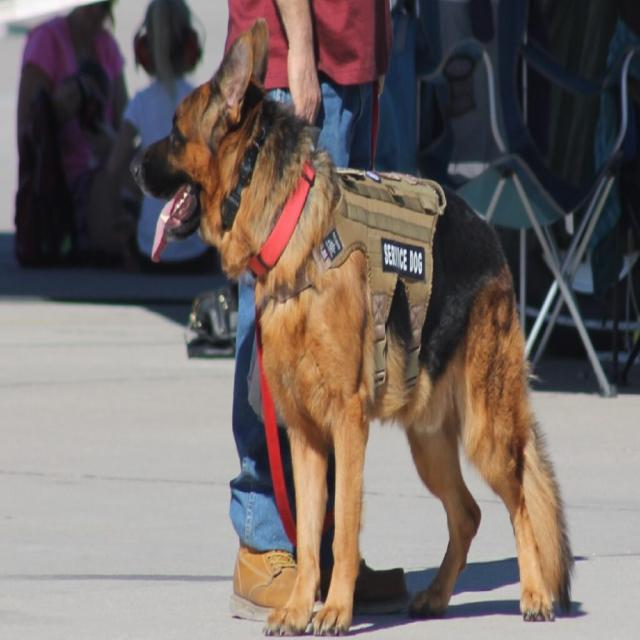GERMAN_SHEPHERD: (116, 13, 582, 640)
